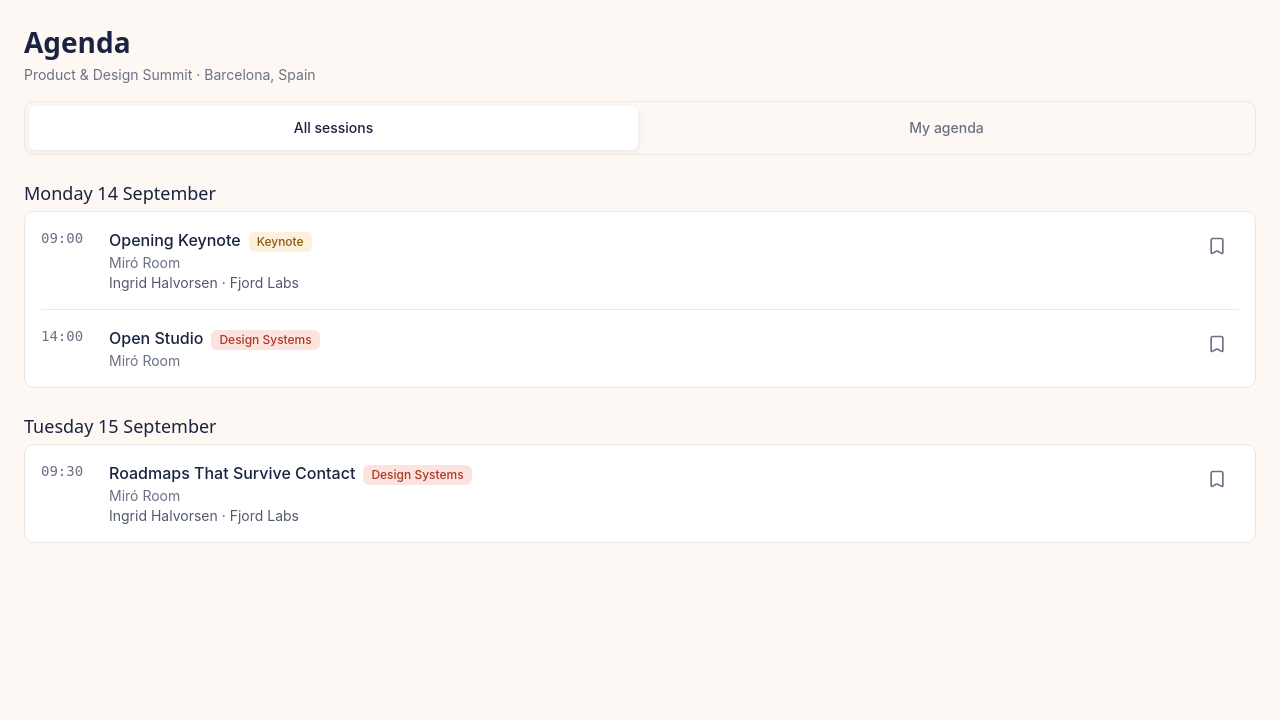
Test: question refusals › renders the indistinguishable 404 without inventing a cause (FR-743)
Click the link "Opening Keynote": (175, 240) [109,230,241,250]
(page scrolled)
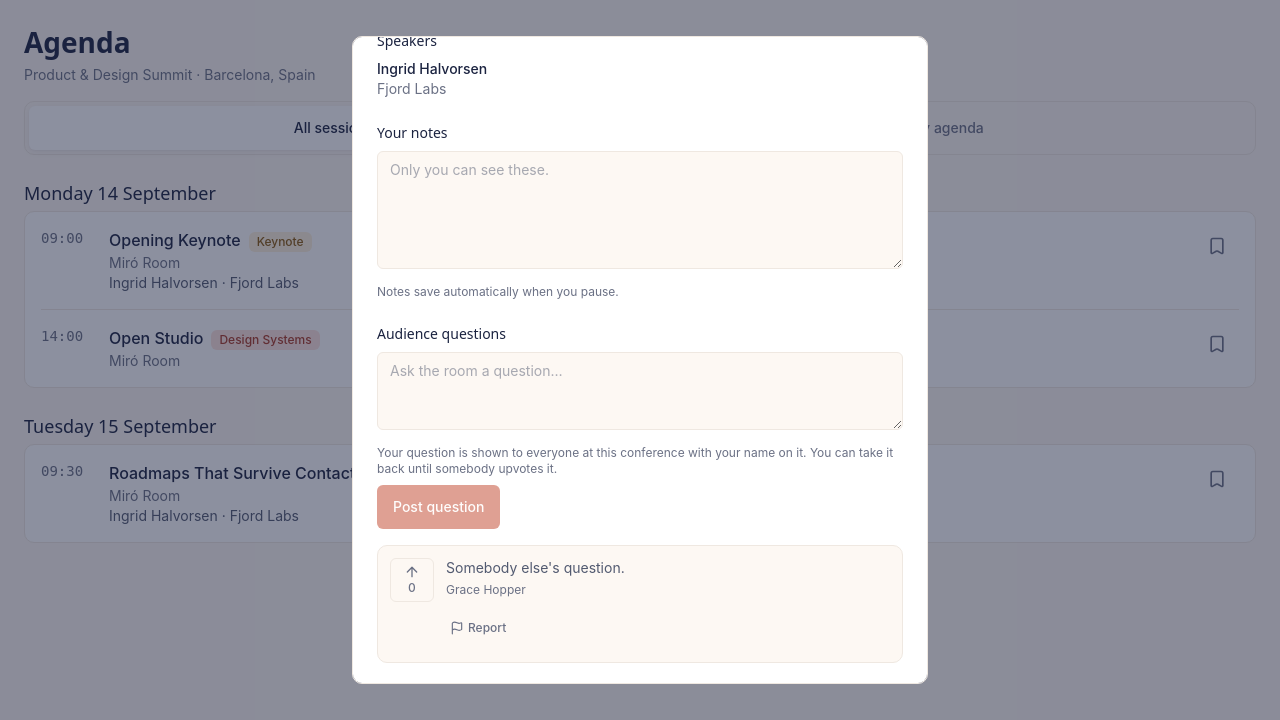
Click the button named "upvote": (412, 580) [390,558,434,602]
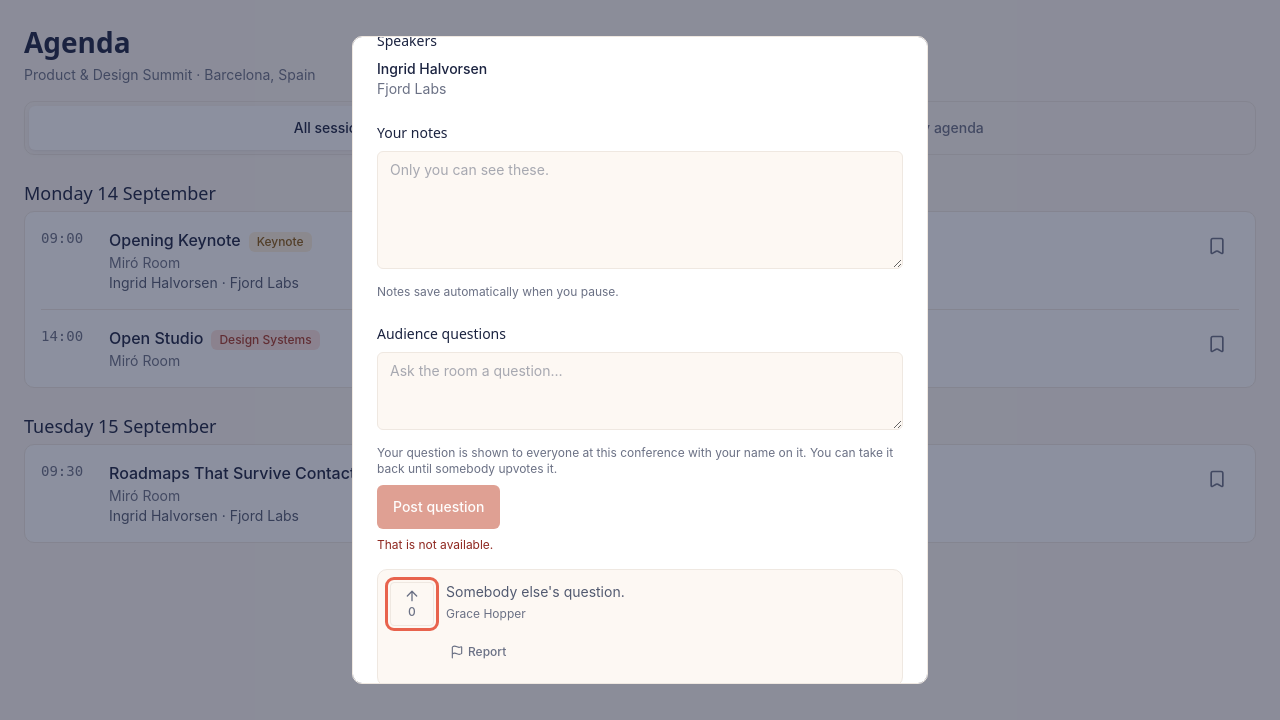
Expected: the message "That is not available." is shown, [377,537,493,552]
